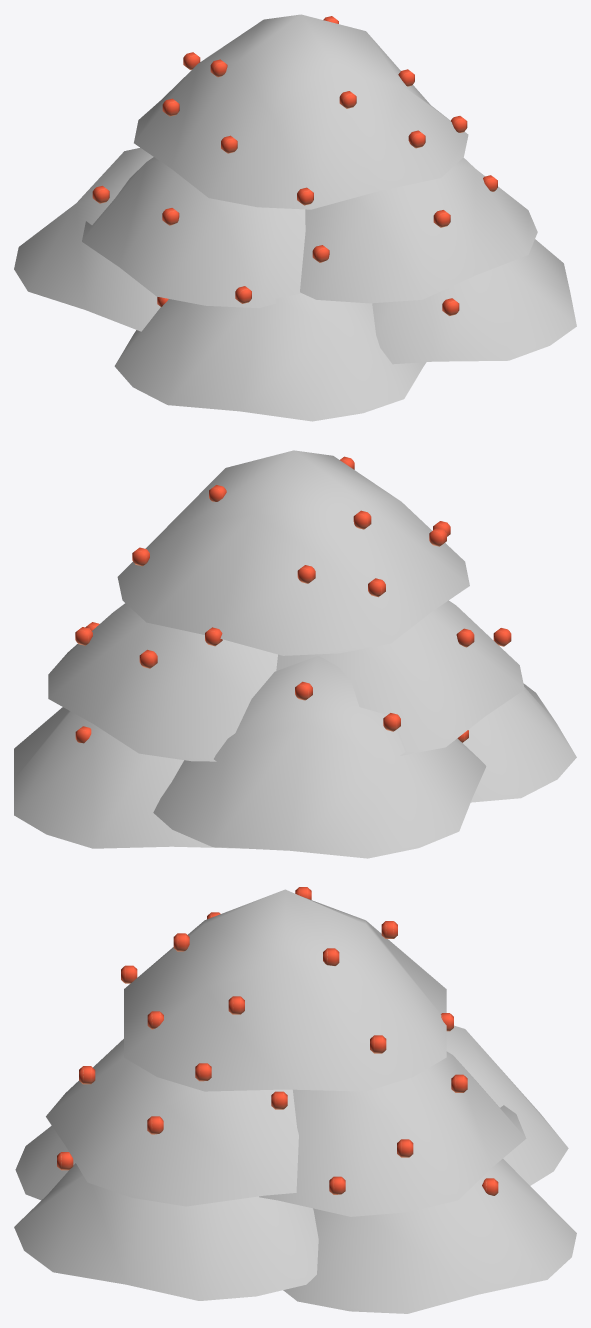
The model's file is BerryBush _ForestProp_001.fbx.
The picture shows the model from 3 angles, top to bottom: view 1: azimuth 30°, elevation 25°; view 2: azimuth 150°, elevation 25°; view 3: azimuth 270°, elevation 25°; orthographic projection. The views are drawn at different scales.
Visible parts, largest first — view 1: 平面, 平面.006, 平面.003, 平面.001, 平面.004, 平面.007; view 2: 平面, 平面.007, 平面.002, 平面.005, 平面.001, 平面.006; view 3: 平面, 平面.003, 平面.004, 平面.005, 平面.002, 平面.007, 平面.006.
Part boxes in pixels (left/top/right/bottom): 平面: left=134, top=14, right=468, bottom=209; 平面.006: left=114, top=293, right=426, bottom=421; 平面.003: left=300, top=157, right=537, bottom=303; 平面.001: left=82, top=157, right=305, bottom=308; 平面.004: left=372, top=239, right=576, bottom=364; 平面.007: left=14, top=147, right=160, bottom=331; 平面: left=117, top=450, right=469, bottom=655; 平面.007: left=153, top=656, right=486, bottom=858; 平面.002: left=48, top=603, right=277, bottom=761; 平面.005: left=14, top=707, right=241, bottom=848; 平面.001: left=276, top=600, right=524, bottom=755; 平面.006: left=463, top=683, right=576, bottom=802; 平面: left=124, top=889, right=446, bottom=1091; 平面.003: left=46, top=1039, right=298, bottom=1206; 平面.004: left=14, top=1163, right=318, bottom=1300; 平面.005: left=283, top=1159, right=576, bottom=1313; 平面.002: left=259, top=1051, right=526, bottom=1216; 平面.007: left=446, top=1025, right=568, bottom=1185; 平面.006: left=15, top=1125, right=75, bottom=1200.
Size of the model in its own units: 270 by 172 by 279.
